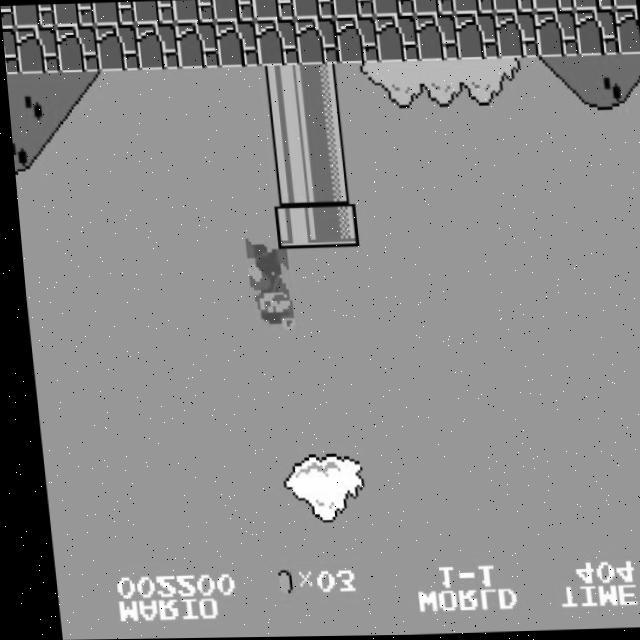0- big_mario: (237, 238, 289, 333)
14- pipe: (297, 64, 343, 112), (257, 66, 303, 113), (301, 110, 347, 157), (262, 111, 307, 159), (305, 156, 350, 203), (265, 158, 310, 204)
15- pipe_head: (309, 201, 355, 249), (269, 203, 315, 250)
17- undestructible_block: (53, 25, 99, 73), (93, 24, 139, 71), (133, 23, 179, 70), (14, 26, 59, 74), (293, 18, 338, 66), (333, 17, 378, 65), (493, 12, 538, 60), (533, 11, 578, 59), (173, 22, 218, 69), (213, 21, 258, 68), (253, 20, 298, 67), (373, 16, 418, 63), (413, 15, 458, 62), (453, 14, 498, 61), (573, 10, 618, 57), (614, 10, 640, 56), (92, 1, 134, 26), (132, 0, 174, 25), (12, 4, 54, 28), (52, 3, 94, 27), (172, 0, 214, 24), (212, 0, 254, 23), (252, 0, 294, 22), (291, 0, 334, 20), (331, 0, 374, 19), (371, 0, 414, 18), (2, 28, 18, 74), (411, 0, 453, 16), (451, 0, 493, 16), (491, 0, 533, 14), (531, 0, 573, 13), (571, 0, 613, 11), (0, 6, 13, 28), (612, 0, 635, 10)
